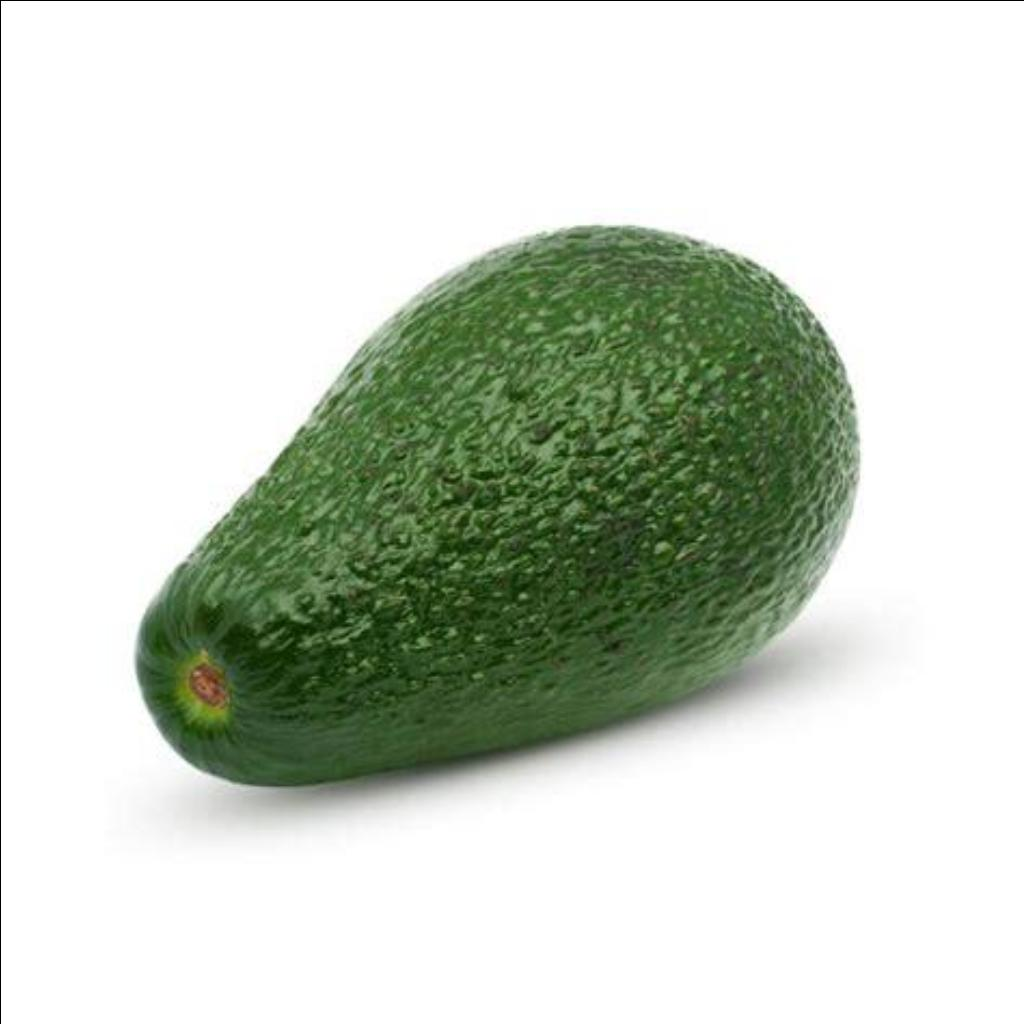Healthy: (114, 210, 912, 814)
